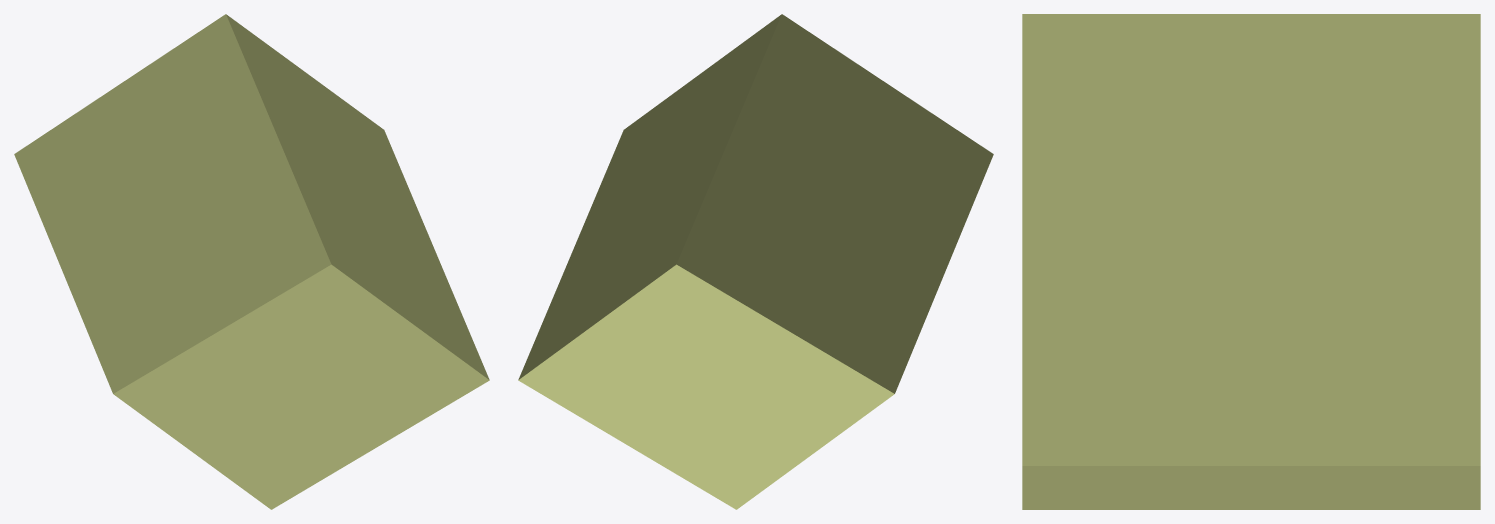
The picture shows the model from 3 angles, left to right: view 1: azimuth 30°, elevation 25°; view 2: azimuth 150°, elevation 25°; view 3: azimuth 270°, elevation 25°; orthographic projection. The views are drawn at different scales.
Parts seen in each view (by area): view 1: 0_1_1_3_2_2_0_0_3_2_0; view 2: 0_1_1_3_2_2_0_0_3_2_0; view 3: 0_1_1_3_2_2_0_0_3_2_0.
Part boxes in pixels (box(x1,y1,x2,y2)): 0_1_1_3_2_2_0_0_3_2_0: box(14, 14, 489, 509); 0_1_1_3_2_2_0_0_3_2_0: box(518, 14, 993, 509); 0_1_1_3_2_2_0_0_3_2_0: box(1022, 14, 1480, 509).
Size of the model in its own units: 6.94 by 7.37 by 6.
